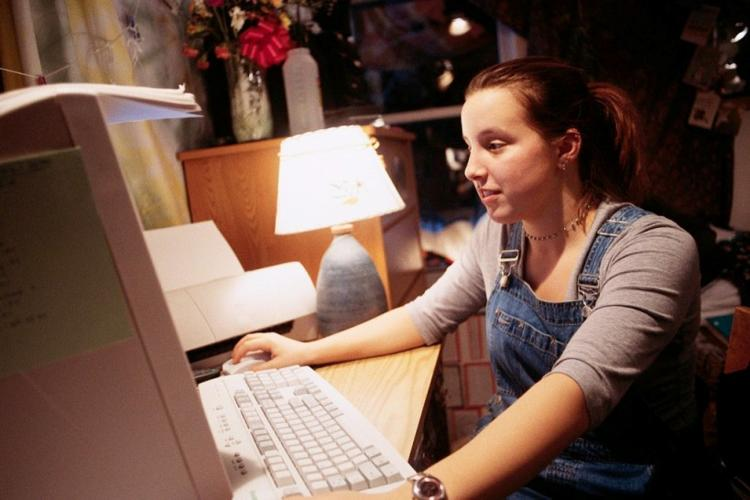person: (230, 57, 700, 500)
